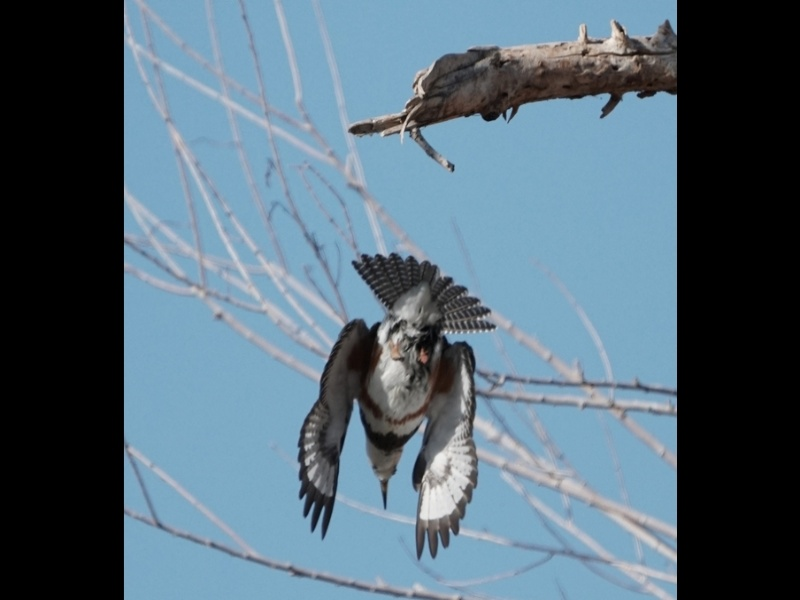kingfisher: (291, 249, 500, 565)
